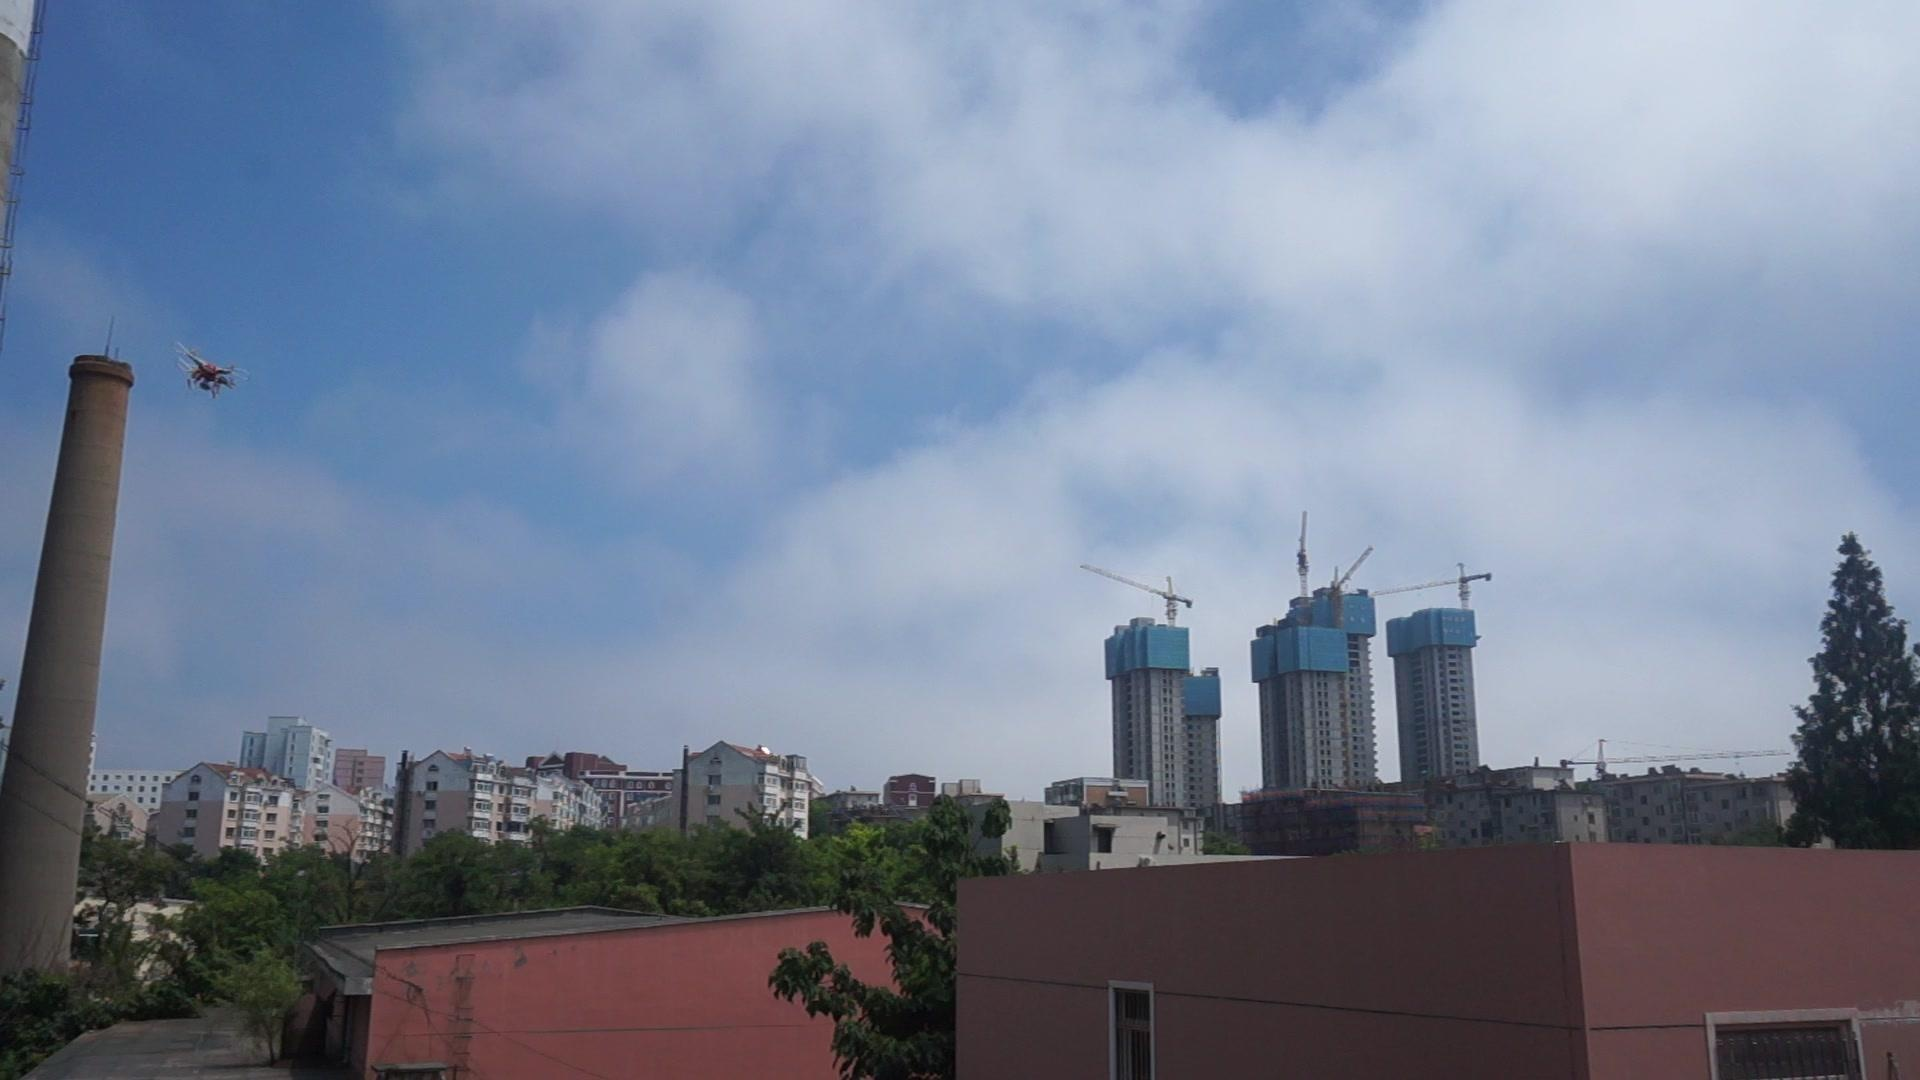UAV: (174, 342, 253, 398)
